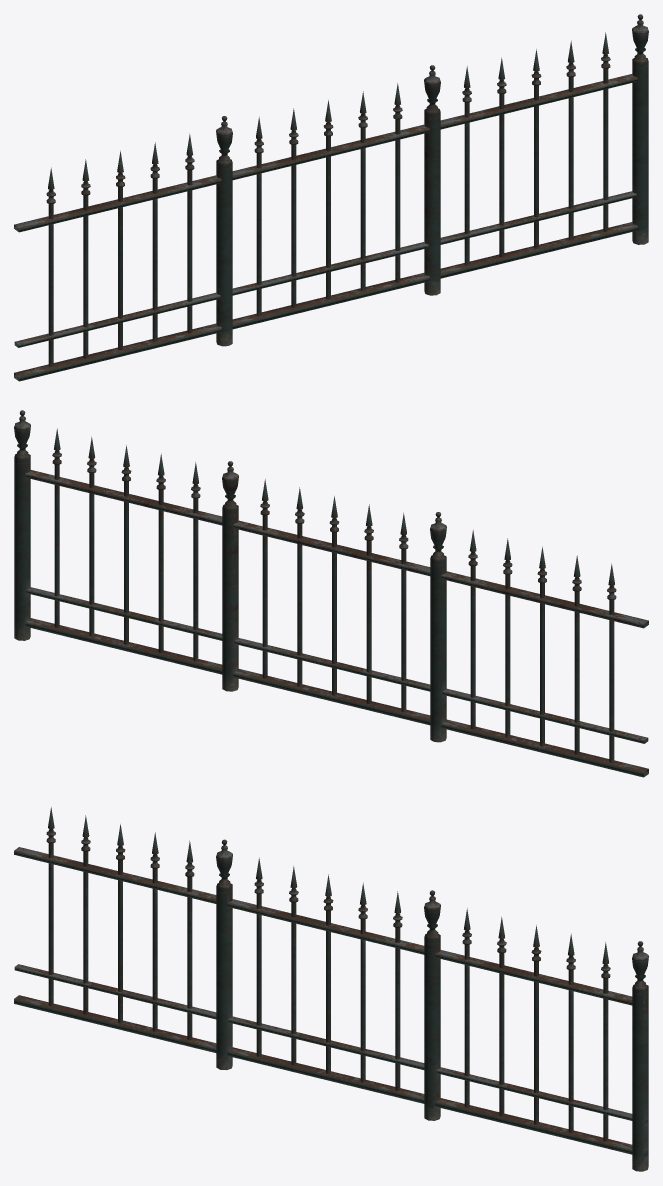
File: Fence01.fbx
3 views of the same model, one above another, from view 1: azimuth 30°, elevation 25°; view 2: azimuth 150°, elevation 25°; view 3: azimuth 330°, elevation 25° (orthographic).
Visible parts, largest first — view 1: LODGroup_1_MainMesh_1_SubMesh_1; view 2: LODGroup_1_MainMesh_1_SubMesh_1; view 3: LODGroup_1_MainMesh_1_SubMesh_1.
Boxes of the visible parts, left/top/right/bottom form: LODGroup_1_MainMesh_1_SubMesh_1: left=14, top=14, right=648, bottom=381; LODGroup_1_MainMesh_1_SubMesh_1: left=14, top=410, right=648, bottom=777; LODGroup_1_MainMesh_1_SubMesh_1: left=14, top=807, right=648, bottom=1171.
Size of the model in its own units: 419 by 144 by 10.14.
